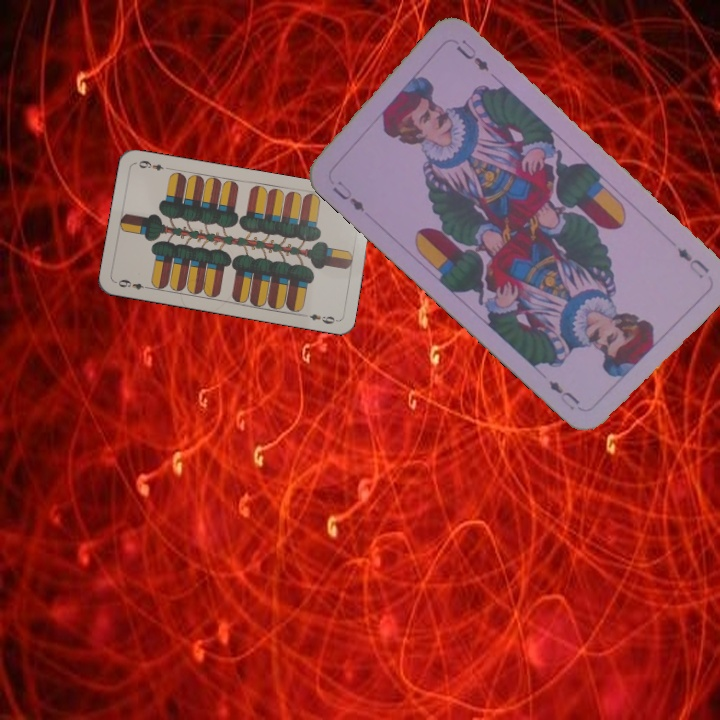E9: (113, 275, 153, 292)
EU: (672, 243, 712, 282), (328, 176, 367, 215)
